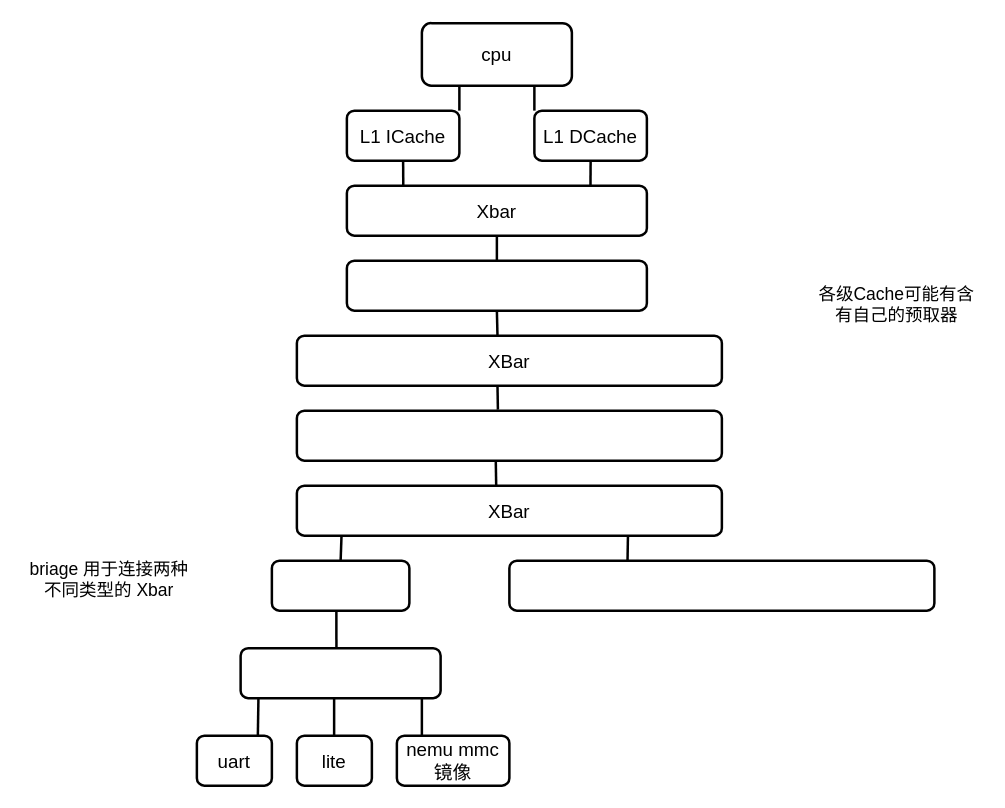
Image size: 1005x808. Some labels were removed from this diagram. The centre of each missing label's shape, as x and y in pixels:
Briage: (x=340, y=585)
DramSim3 Mem: (x=721, y=585)
IOBUS XBar: (x=340, y=672)
L2 Cache: (x=496, y=285)
L3 Cache: (x=508, y=435)
